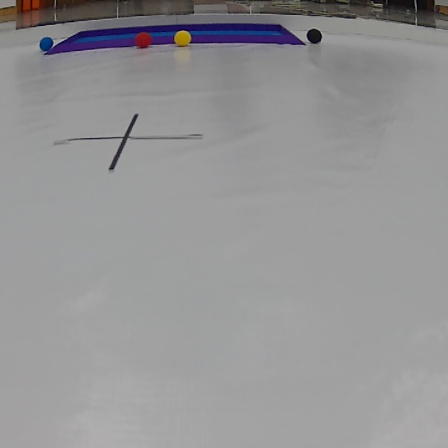black: (306, 28, 325, 45)
blue: (41, 37, 55, 51)
blue_aim: (48, 28, 304, 47)
red: (132, 30, 153, 50)
yellow: (174, 31, 193, 45)
